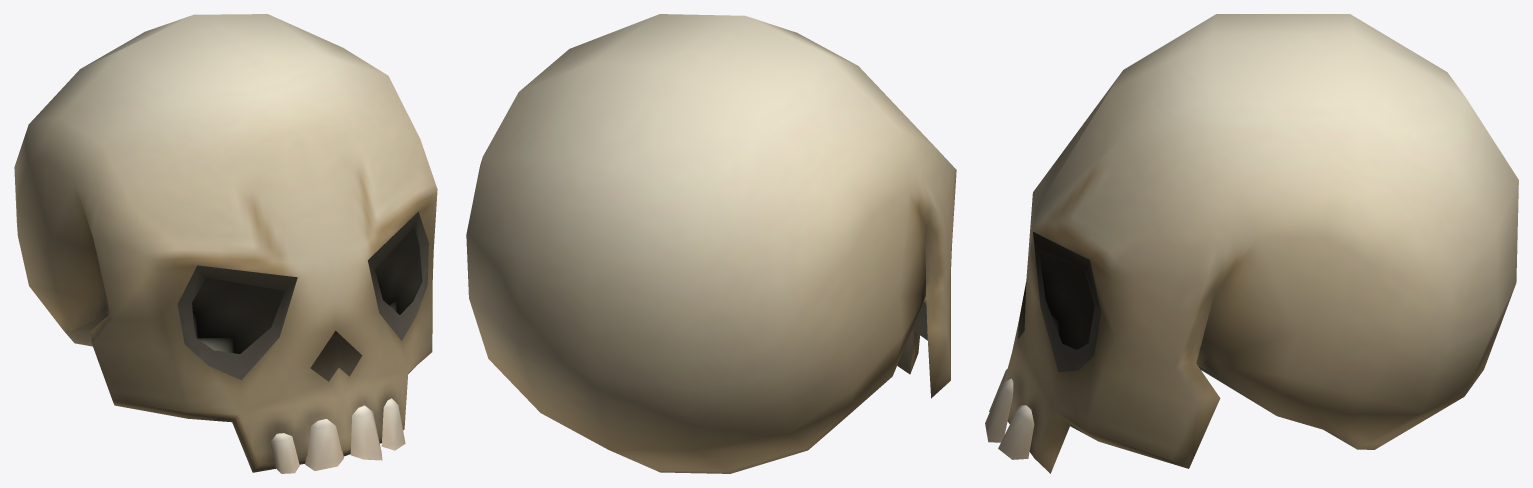
The model's file is A_CR_GEN_Skel_Skull_01.fbx.
The picture shows the model from 3 angles, left to right: view 1: azimuth 30°, elevation 25°; view 2: azimuth 150°, elevation 25°; view 3: azimuth 270°, elevation 25°; orthographic projection. The views are drawn at different scales.
Visible parts, largest first — view 1: A_CR_GEN_Skel_Skull_01; view 2: A_CR_GEN_Skel_Skull_01; view 3: A_CR_GEN_Skel_Skull_01.
Part boxes in pixels (x1,y1,x2,y2): A_CR_GEN_Skel_Skull_01: (14, 14, 437, 473); A_CR_GEN_Skel_Skull_01: (466, 14, 956, 473); A_CR_GEN_Skel_Skull_01: (985, 14, 1518, 473).
Bounding box in the file's own units: 41.42 × 40.05 × 48.87.
1 material, 1 textured.
